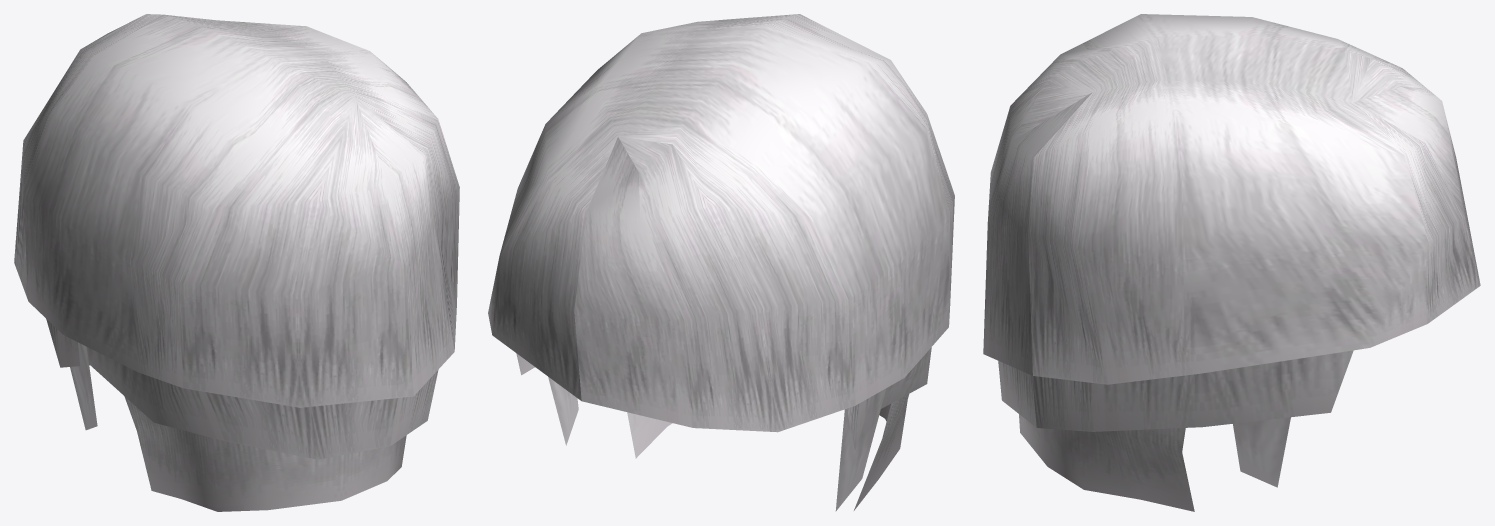
File: Martial arts male hair 62.glb
The picture shows the model from 3 angles, left to right: view 1: azimuth 30°, elevation 25°; view 2: azimuth 150°, elevation 25°; view 3: azimuth 270°, elevation 25°; orthographic projection. The views are drawn at different scales.
Parts seen in each view (by area): view 1: 武侠男头发62_0; view 2: 武侠男头发62_0; view 3: 武侠男头发62_0.
Boxes of the visible parts, <box> form: 武侠男头发62_0: <box>14,14,459,511</box>; 武侠男头发62_0: <box>488,14,954,511</box>; 武侠男头发62_0: <box>983,14,1480,511</box>.
Bounding box in the file's own units: 0.1756 × 0.2074 × 0.2206.
1 material, 1 textured.
